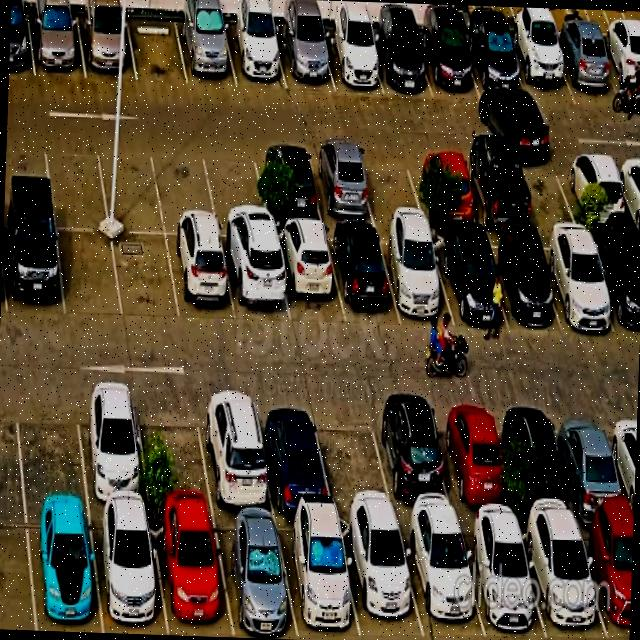empty: (312, 398, 395, 517), (135, 388, 213, 511), (14, 385, 87, 505), (201, 144, 270, 238), (95, 140, 164, 233), (112, 232, 179, 322), (152, 143, 218, 234), (43, 137, 108, 229), (57, 229, 122, 317), (356, 148, 424, 221), (517, 151, 583, 224), (126, 16, 187, 84)
occupied: (211, 514, 298, 639), (518, 521, 607, 640), (369, 399, 457, 519), (275, 516, 360, 640), (149, 511, 233, 636), (338, 517, 424, 639), (458, 521, 546, 640), (398, 521, 485, 638), (432, 399, 514, 522), (89, 508, 167, 634), (196, 390, 274, 513), (25, 507, 101, 633), (552, 402, 632, 521), (254, 394, 333, 513), (74, 385, 149, 508), (501, 400, 577, 521), (536, 230, 616, 330), (480, 233, 560, 328), (429, 233, 508, 329), (377, 229, 454, 327), (325, 227, 400, 322), (272, 226, 344, 324), (577, 520, 633, 640), (166, 235, 236, 321), (220, 239, 290, 324), (3, 222, 64, 317), (460, 151, 533, 229), (589, 230, 640, 337), (549, 34, 622, 106), (408, 150, 478, 225), (253, 146, 322, 222), (307, 147, 375, 221), (506, 33, 575, 105), (565, 151, 631, 225), (463, 29, 528, 102), (417, 28, 480, 99), (367, 30, 432, 96), (223, 21, 286, 88), (175, 18, 236, 87), (319, 28, 383, 93), (76, 14, 136, 80), (28, 13, 85, 78), (275, 27, 334, 89), (597, 37, 640, 107)
